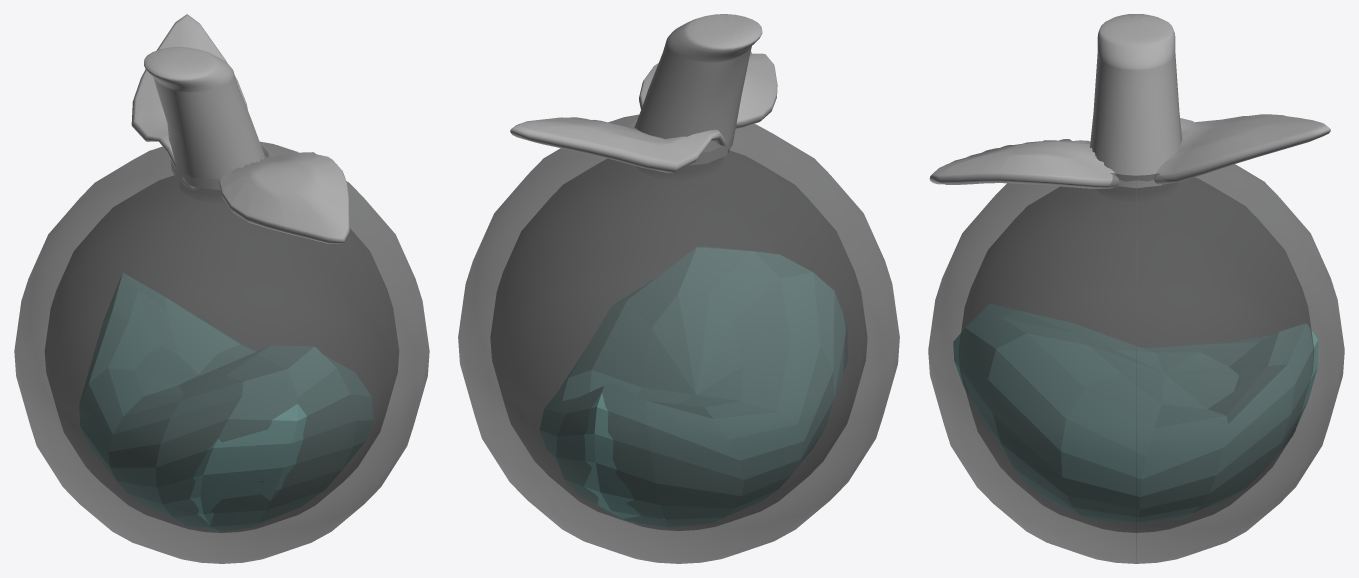
File: Guo_Shi.fbx
3 views of the same model, side by side, from view 1: azimuth 30°, elevation 25°; view 2: azimuth 150°, elevation 25°; view 3: azimuth 270°, elevation 25° (orthographic). The views are drawn at different scales.
Parts seen in each view (by area): view 1: polySurface26; view 2: polySurface26; view 3: polySurface26.
Part boxes in pixels (x1=…): polySurface26: x1=14, y1=14, x2=429, y2=563; polySurface26: x1=458, y1=14, x2=899, y2=563; polySurface26: x1=928, y1=14, x2=1344, y2=563.
Bounding box in the file's own units: 1.28 × 1.68 × 1.28.
